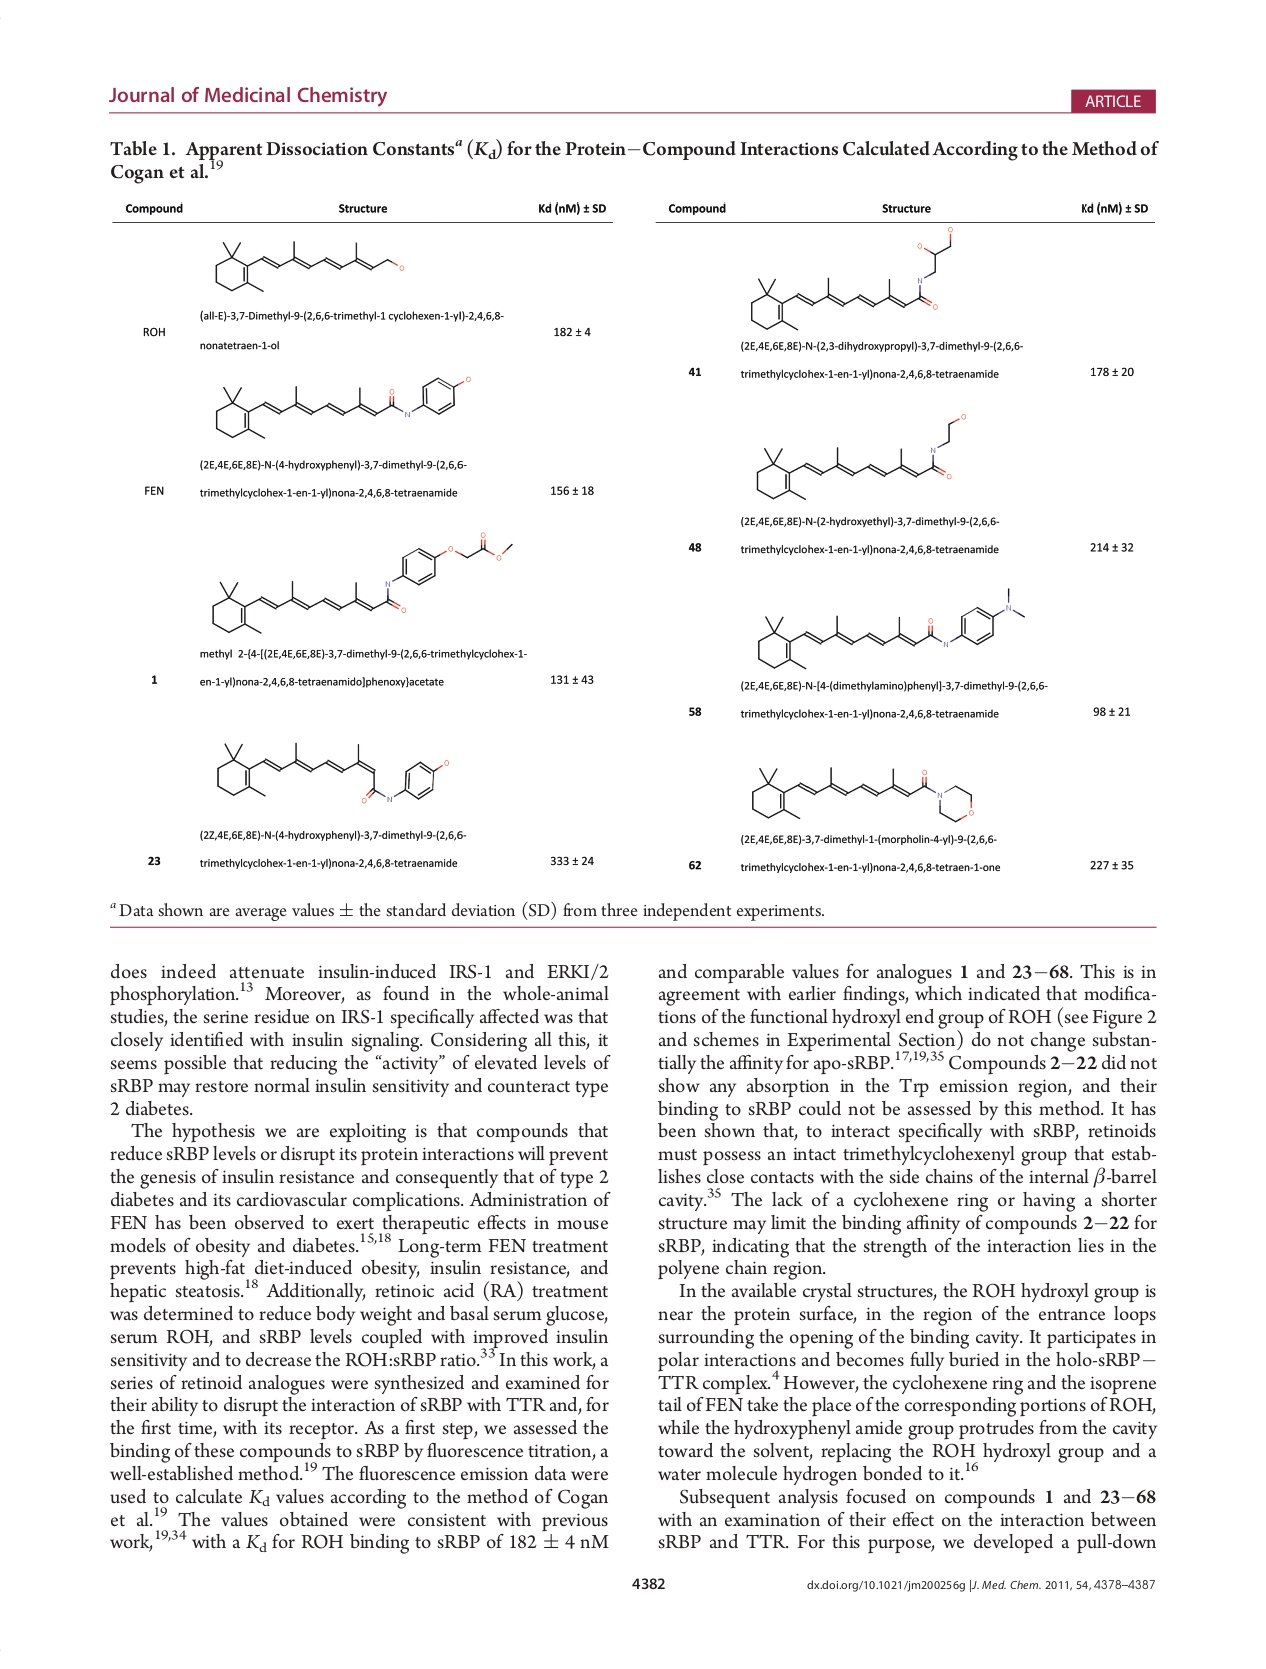exist_molecular: (209, 529, 516, 637), (754, 584, 1031, 674), (747, 223, 959, 332), (751, 410, 971, 504), (211, 374, 476, 440), (210, 735, 453, 805), (749, 761, 979, 825), (210, 234, 408, 294)
